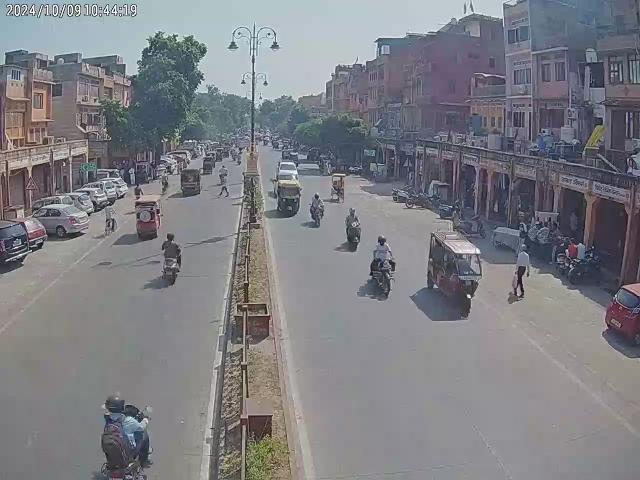auto: (426, 229, 484, 317), (132, 198, 164, 240), (277, 179, 302, 216), (178, 167, 202, 197)
car: (29, 200, 90, 239), (606, 282, 640, 344), (99, 177, 128, 199)
helmet: (105, 394, 128, 414), (376, 235, 386, 246), (166, 232, 175, 243), (348, 206, 356, 215)
motorbike: (390, 181, 430, 212), (568, 254, 604, 284)
motorbike-rider: (95, 394, 154, 480), (368, 235, 396, 297), (309, 194, 324, 228)
person: (512, 242, 530, 298), (134, 183, 142, 200)
rickshow: (330, 172, 346, 202)
scooty: (455, 212, 487, 234)
scooty-rider: (159, 231, 183, 285), (345, 207, 360, 248)
